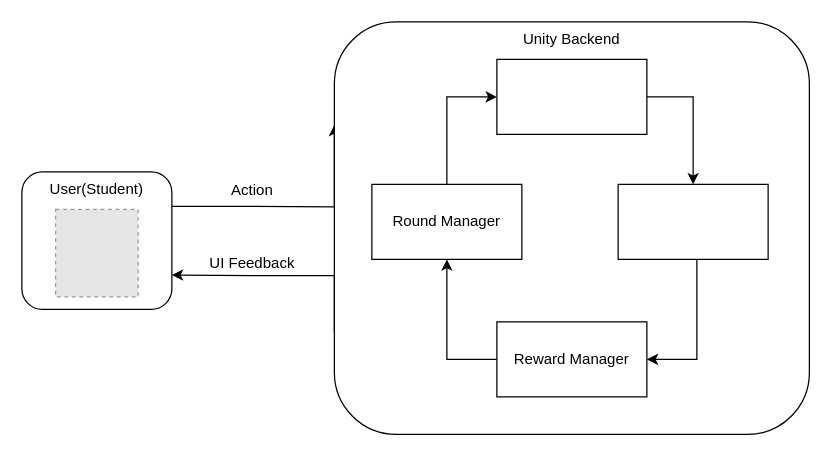
Some shapes in this 831 by 456 pixel diagram are drawn without their labels. Grey dashed boxes stand in for pictures. The shapes that lost their labels are listed below. From the top down, each one's centre as x and y in pixels, then its label:
the point at 571,96: Game Manager
the point at 692,221: Quiz Manger
